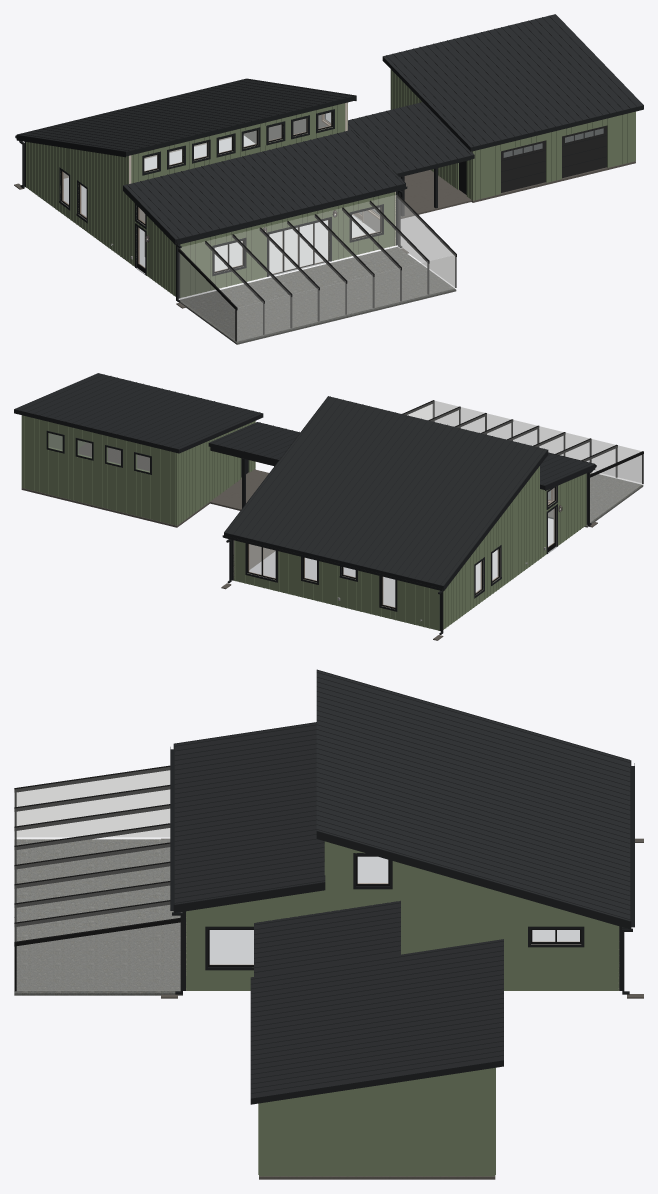
File: shell.glb
The picture shows the model from 3 angles, top to bottom: view 1: azimuth 30°, elevation 25°; view 2: azimuth 150°, elevation 25°; view 3: azimuth 270°, elevation 25°; orthographic projection. The views are drawn at different scales.
Parts seen in each view (by area): view 1: Garage roof, Roof south (low), Greenhouse roof glazing, Greenhouse floor, Roof north (high), Wall W siding, Greenhouse south glazing, Wall S siding, Porch roof, Battens W, Garage wall S, Clerestory wall siding (+19 smaller); view 2: Roof north (high), Garage roof, Garage wall N, Wall W siding, Wall N siding, Battens W, Greenhouse roof glazing, Greenhouse south glazing, Garage battens N, Garage wall W, Battens N, Porch roof (+12 smaller); view 3: Roof north (high), Garage roof, Roof south (low), Greenhouse roof glazing, Greenhouse floor, Wall E siding, Garage wall E, Greenhouse east glazing, Porch roof, Battens E, Greenhouse west glazing, Garage battens E (+14 smaller).
Part boxes in pixels (x1,y1,x2,y2): Garage roof: (382,14,643,151); Roof south (low): (124,129,404,239); Greenhouse roof glazing: (180,195,454,307); Greenhouse floor: (179,246,456,344); Roof north (high): (18,79,355,156); Wall W siding: (27,142,175,296); Greenhouse south glazing: (237,255,455,341); Wall S siding: (181,192,395,297); Porch roof: (348,102,474,176); Battens W: (26,142,173,295); Garage wall S: (471,111,635,200); Clerestory wall siding: (131,103,345,183); Roof north (high): (225,396,546,585); Garage roof: (14,373,263,453); Garage wall N: (21,415,178,525); Wall W siding: (443,466,585,629); Wall N siding: (233,541,438,630); Battens W: (445,467,586,628); Greenhouse roof glazing: (404,401,641,473); Greenhouse south glazing: (435,401,641,482); Garage battens N: (23,415,175,525); Garage wall W: (175,421,253,525); Battens N: (234,540,439,630); Porch roof: (208,422,299,462); Roof north (high): (316,670,630,920); Garage roof: (250,939,503,1104); Roof south (low): (174,722,325,904); Greenhouse roof glazing: (14,767,180,941); Greenhouse floor: (14,839,182,995); Wall E siding: (186,841,619,990); Garage wall E: (259,1068,495,1176); Greenhouse east glazing: (17,923,180,990); Porch roof: (254,900,400,976); Battens E: (186,843,618,990); Greenhouse west glazing: (17,770,169,836); Garage battens E: (262,1068,491,1176).
Size of the model in its own units: 29.62 by 6.74 by 22.74.
18 materials, 6 textured.
